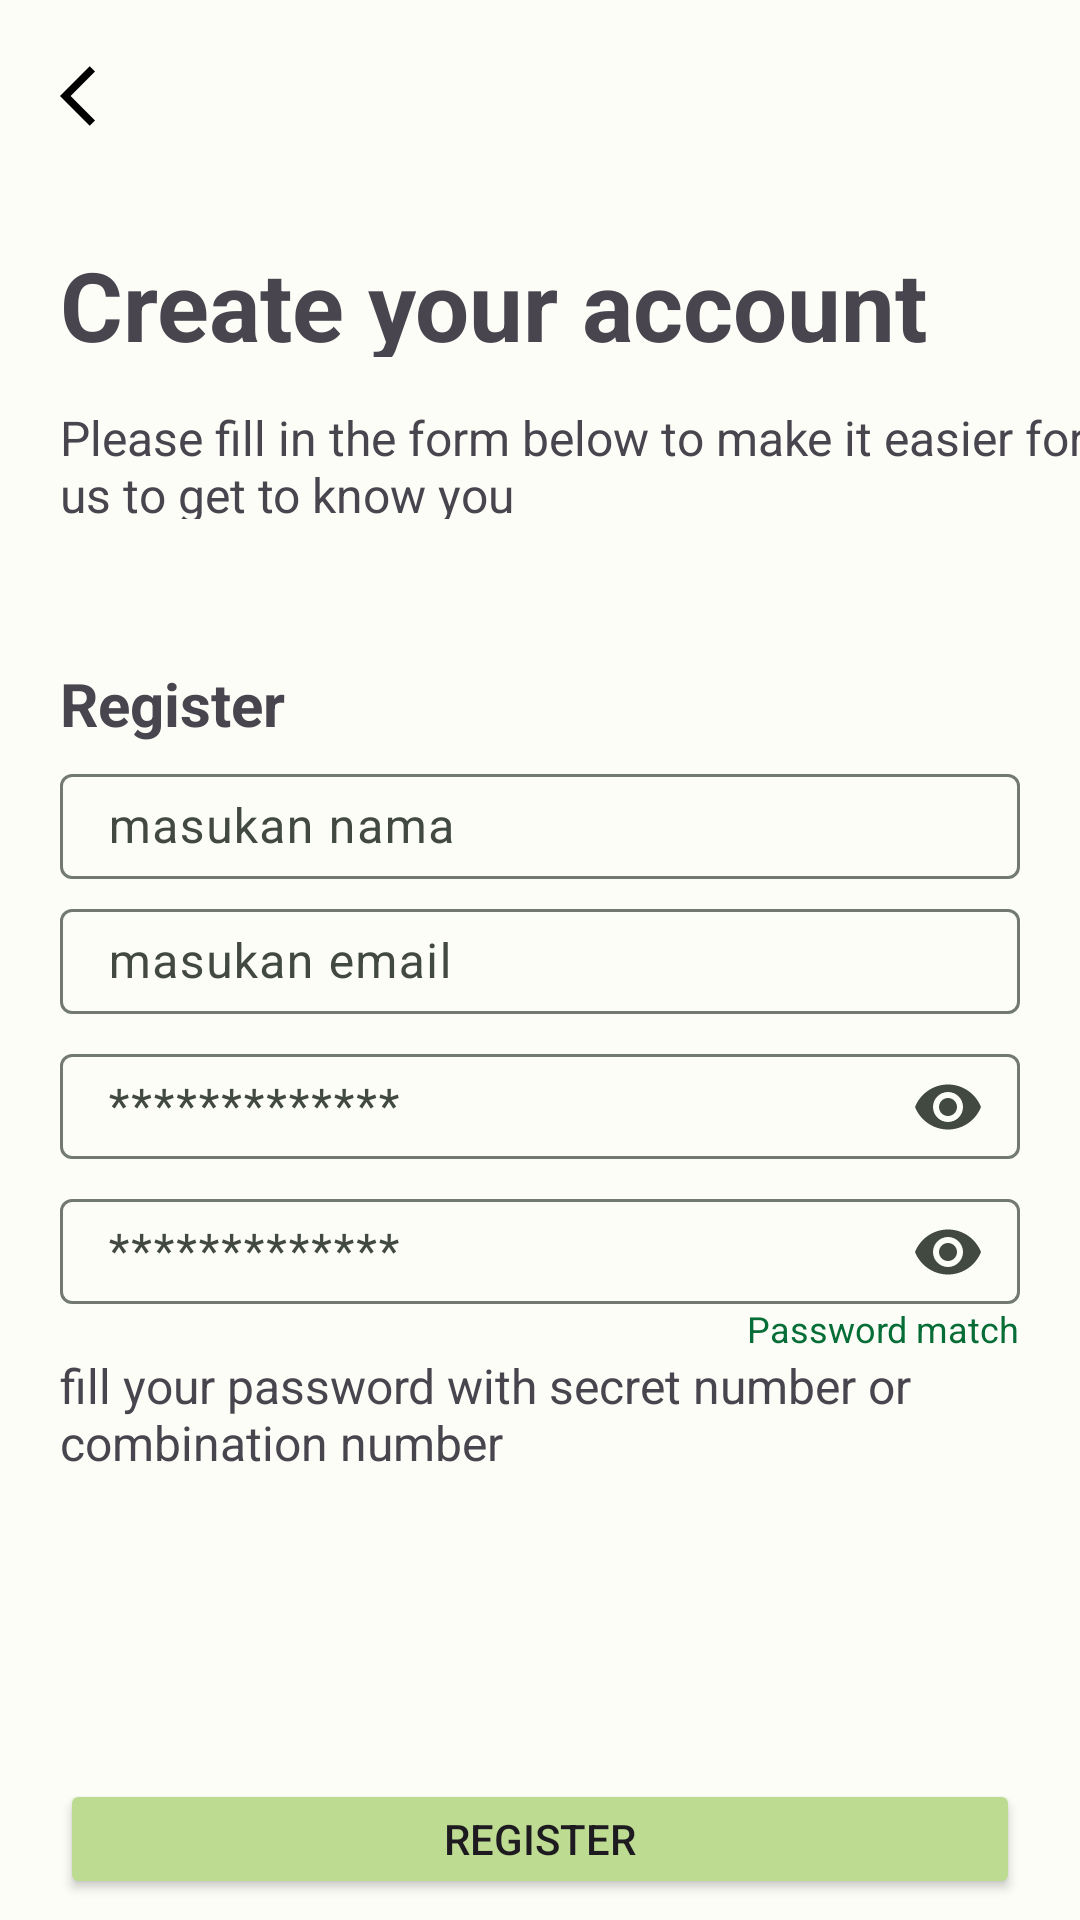

Icons on this 1080px×1920px Android screen, each with its box as (x1, y1, x2, y2):
arrow back: (60, 66, 95, 126)
